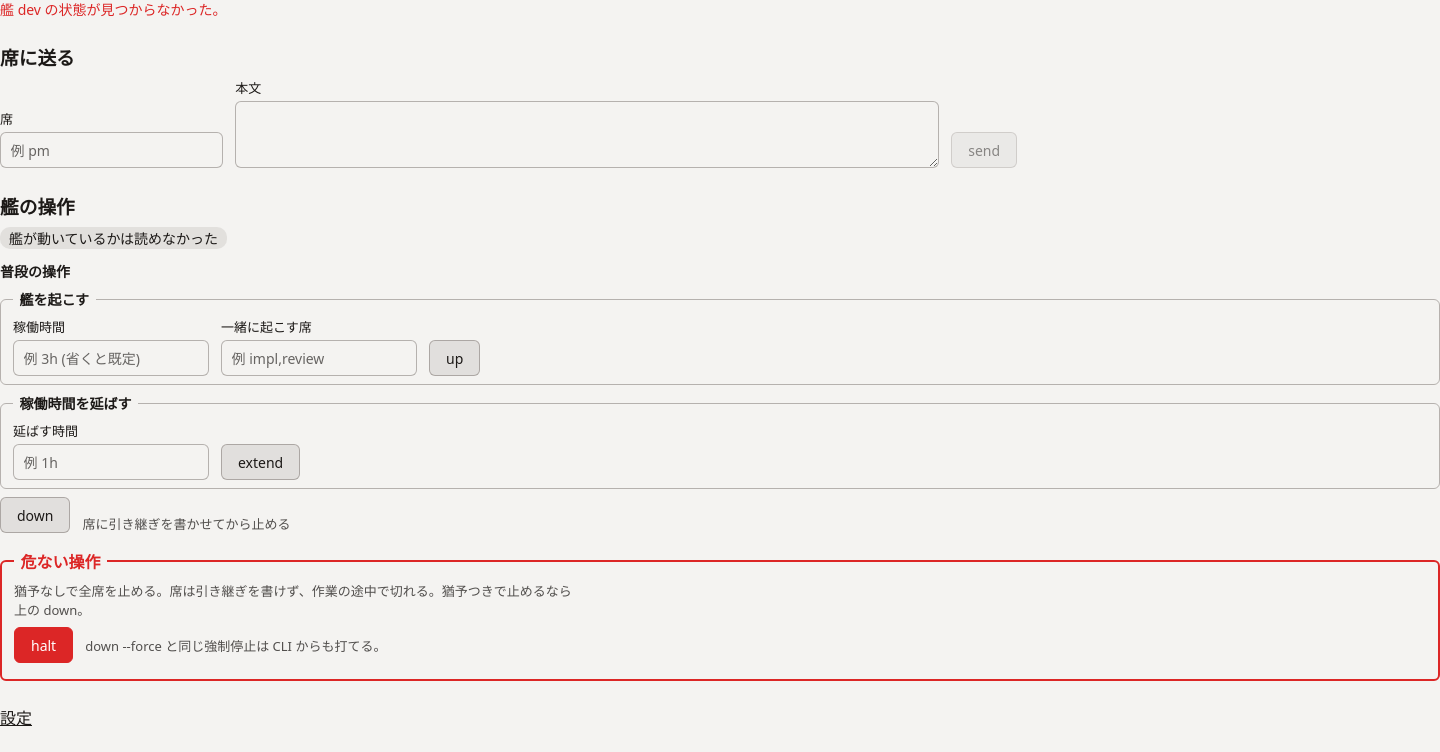
Scenario: 艦ページの操作 › halt は確認画面を経てから POST する (alert は使わない)
Click the button "halt": (44, 645) [14,627,73,663]
(page scrolled)
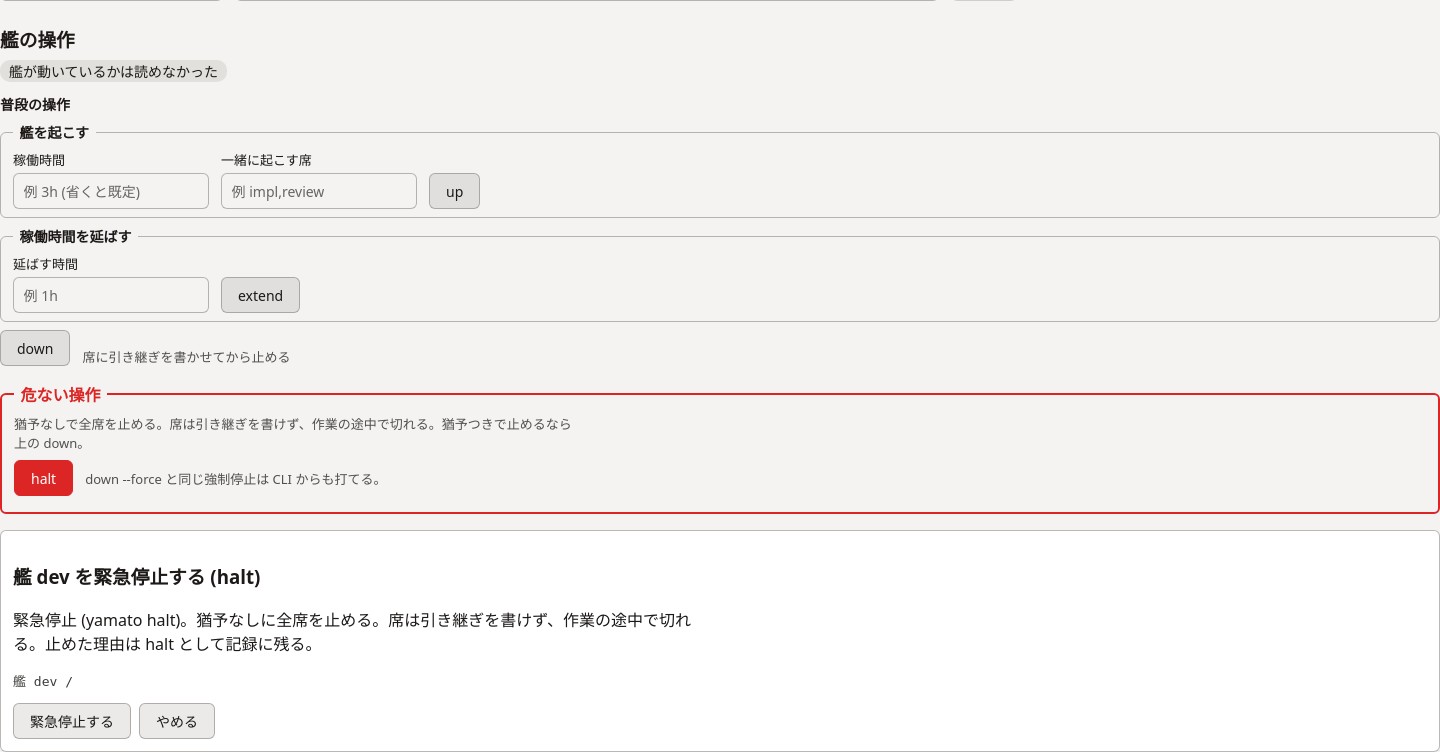
Click the button "緊急停止する": (72, 721) [13,703,131,739]
(page scrolled)
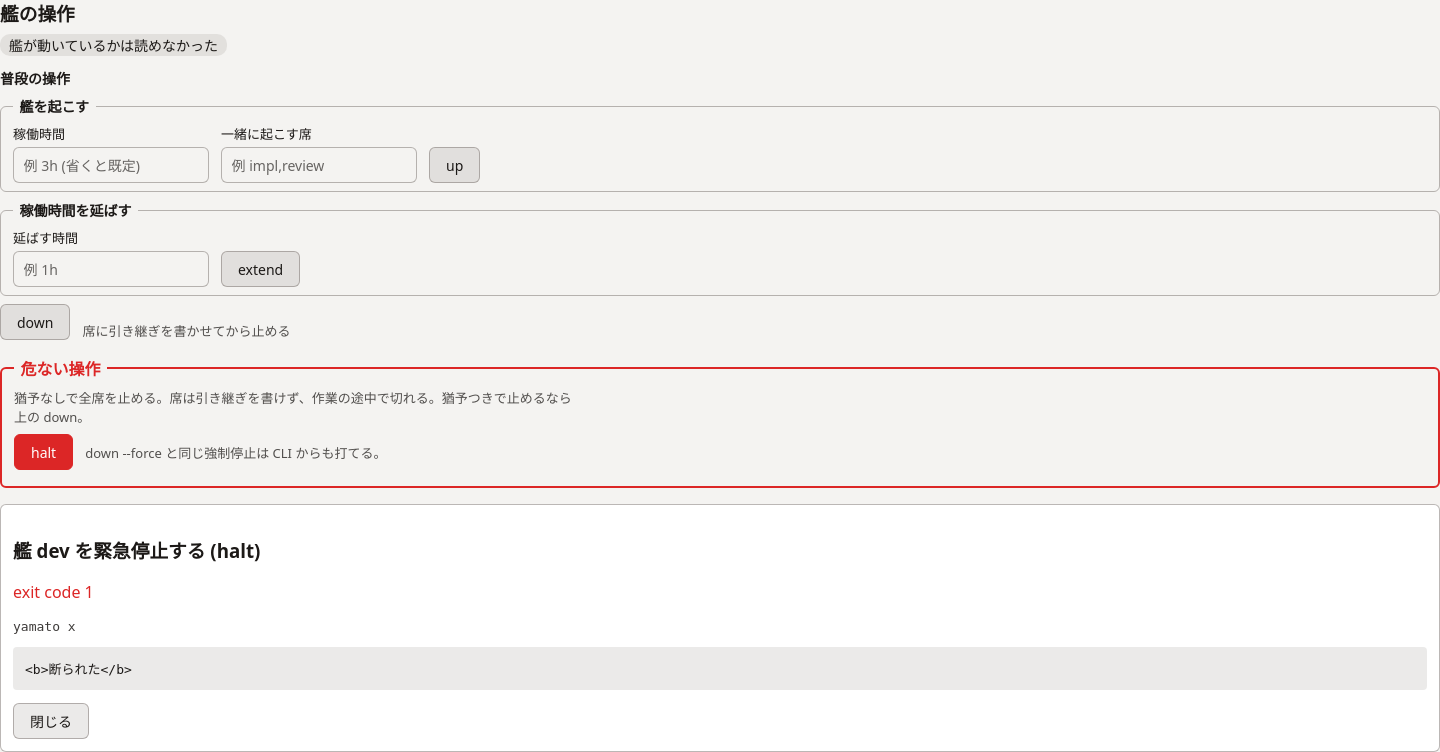
Check: the text "exit code 1" is shown, box [13,581,94,603]
